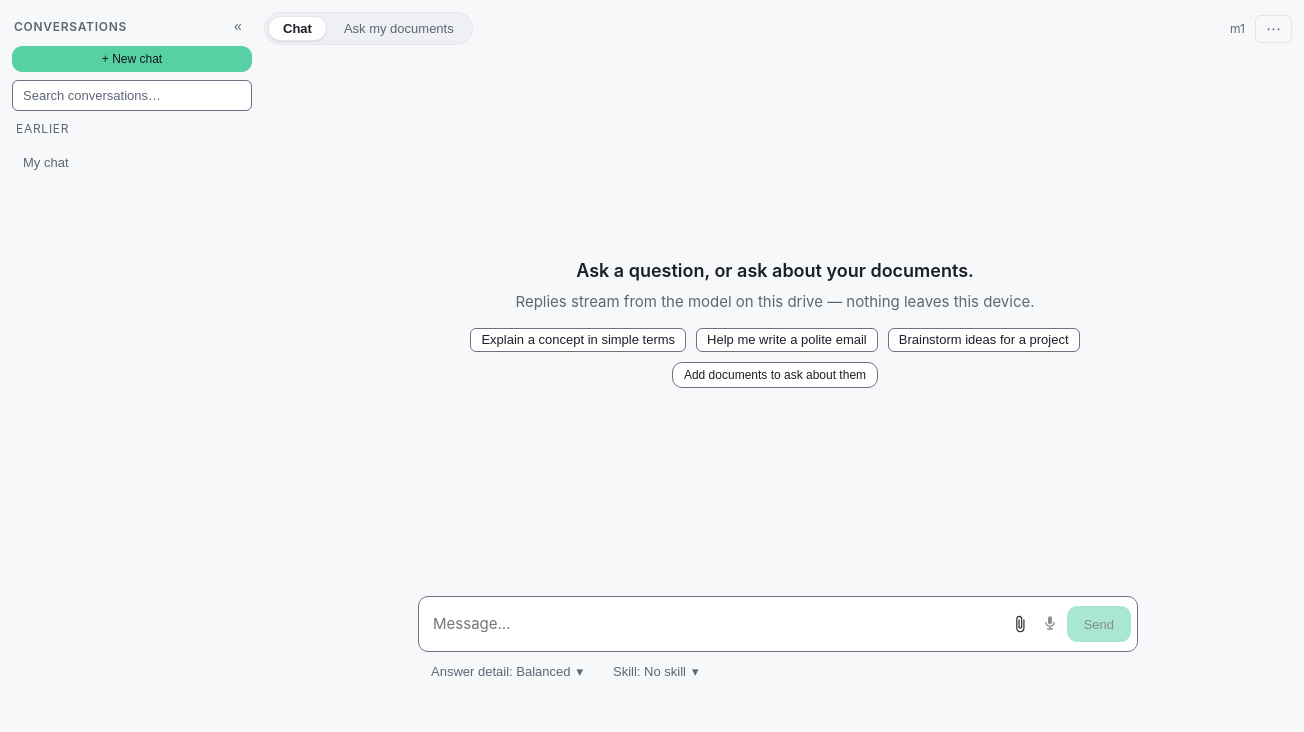
it: ChatScreen — per-turn skill apply + keep (U3, audit §4.3) › a saved default shows the keep checkbox CHECKED; picking None CLEARS it (no resurface on reload)
Click the button "My chat": (116, 162) [12,142,221,182]
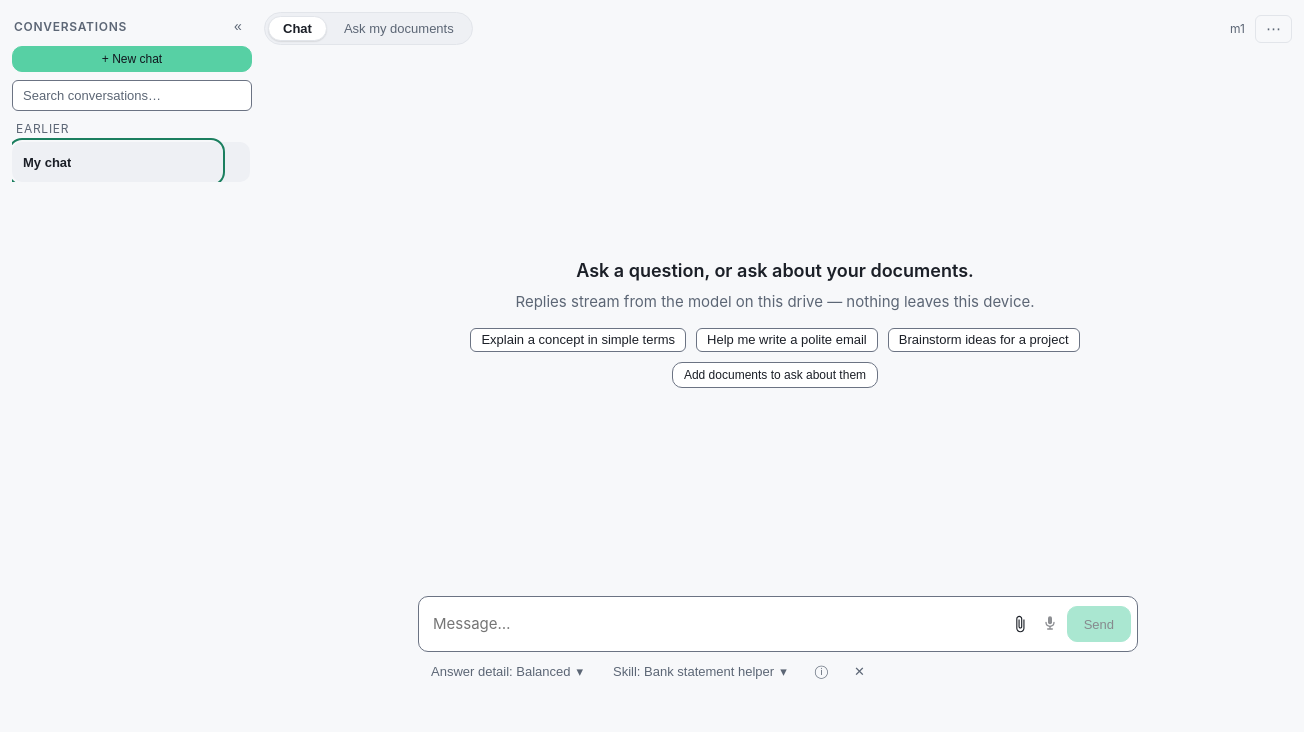
Expected: the button "Skill: Bank statement helper ▾" is shown
Click the button "Skill: Bank statement helper ▾": (700, 671) [604,659,796,683]
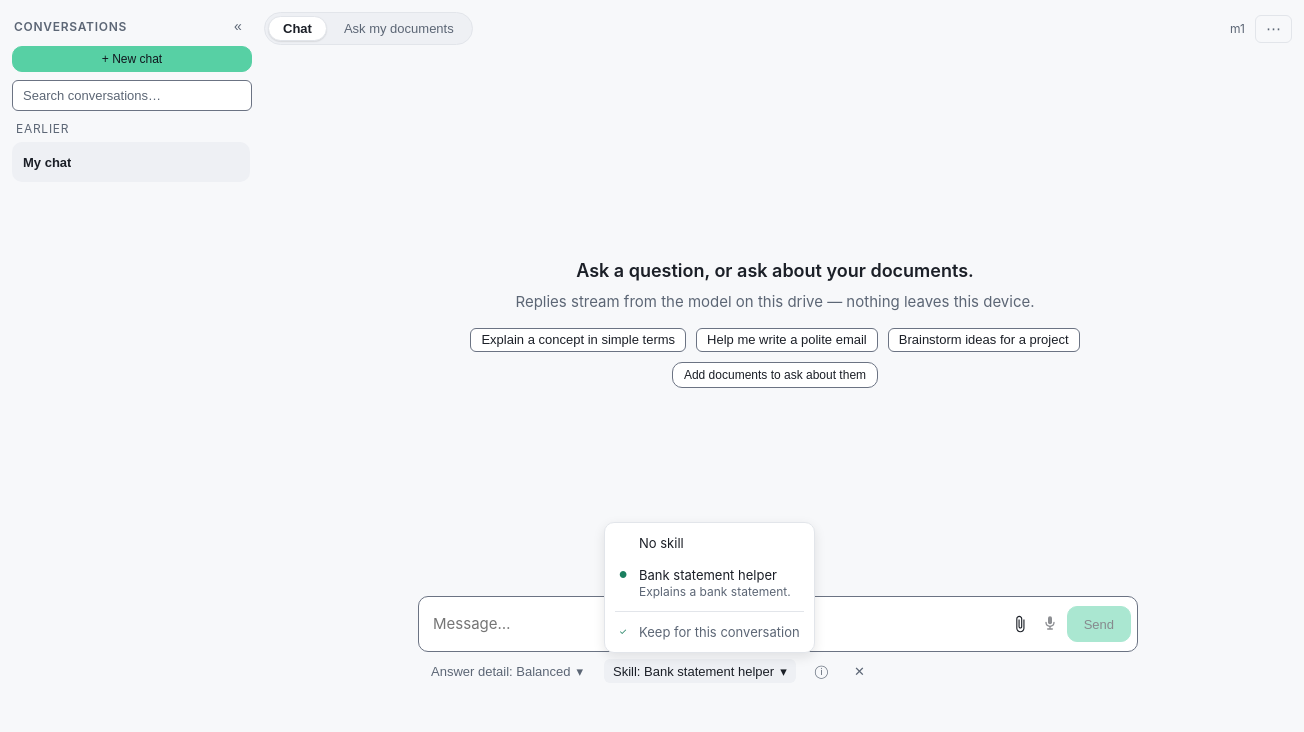
Click the menu item "No skill": (661, 543) [639,535,684,551]
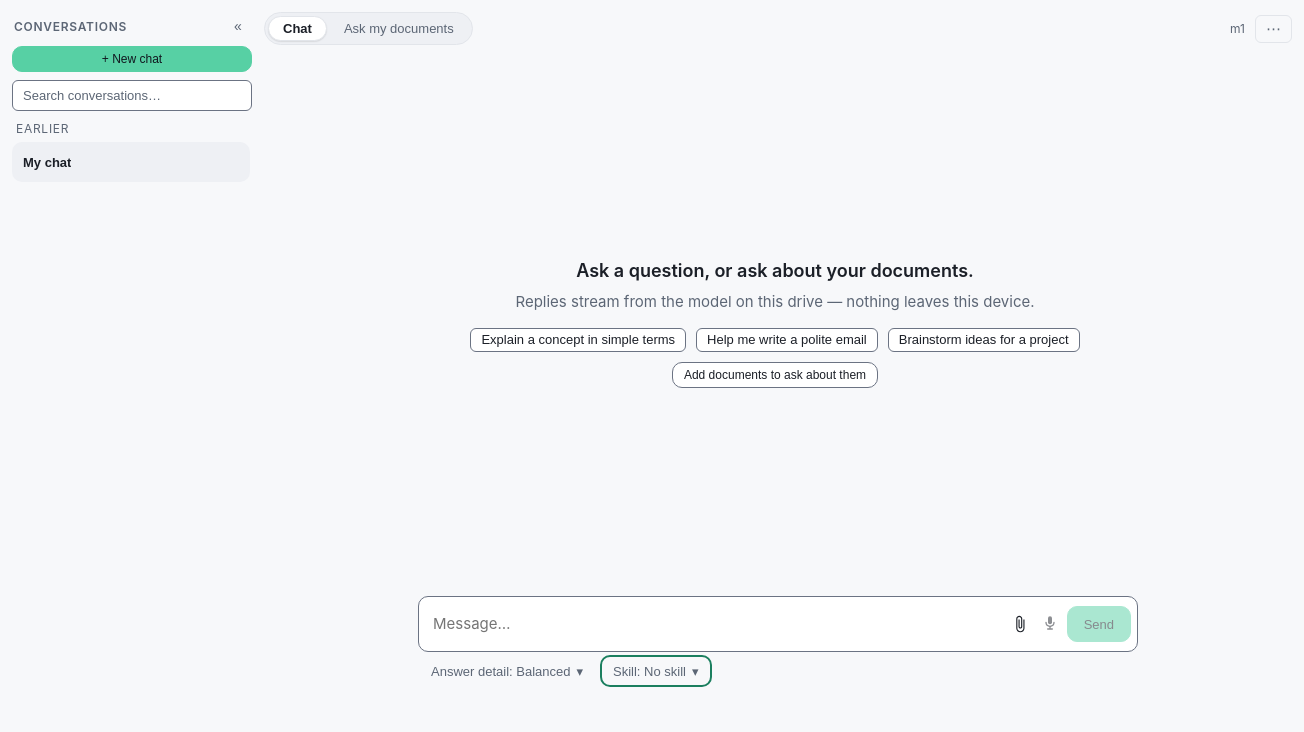
Expected: the button "Skill: No skill ▾" is shown, [604,659,708,683]
